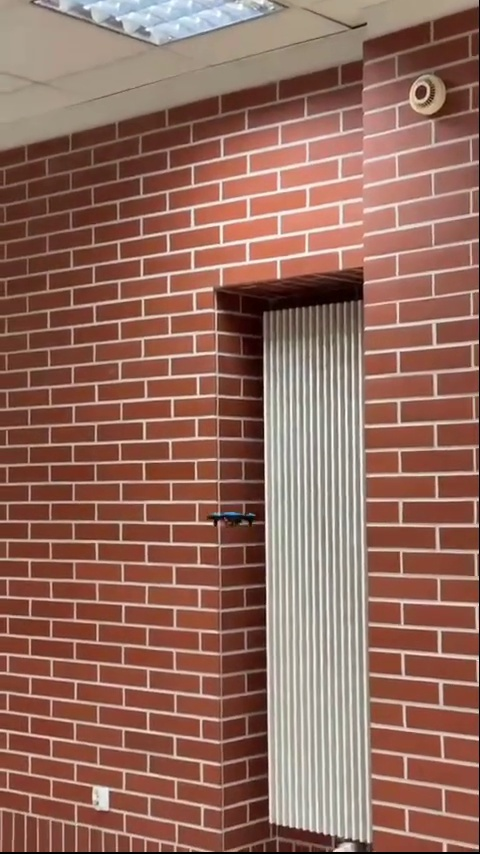drone: (203, 507, 262, 531)
